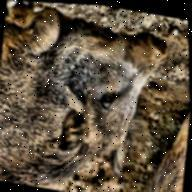boar: (0, 1, 180, 192)
